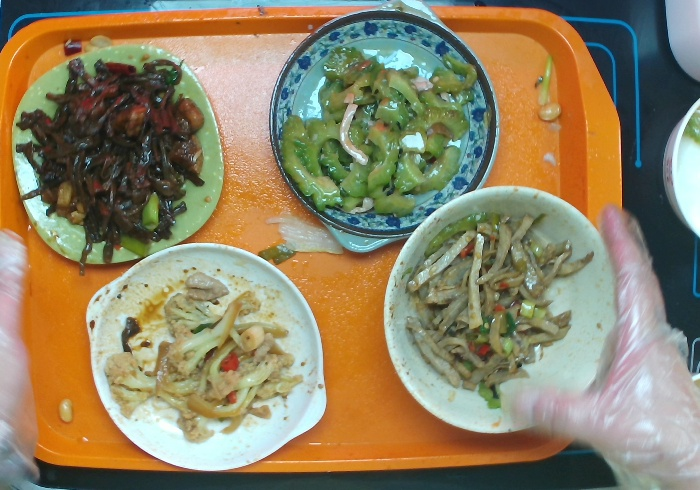NLDX-Bai_Se_Shuang_Er_Die: (79, 239, 331, 479)
NLDX-Bai_Se_Yuan_Wan: (372, 180, 621, 437)
NLDX-Lv_Hua_Fang_Die: (7, 42, 231, 272)
NLDX-Qing_Hua_Shuang_Er_Die: (259, 1, 505, 257)
